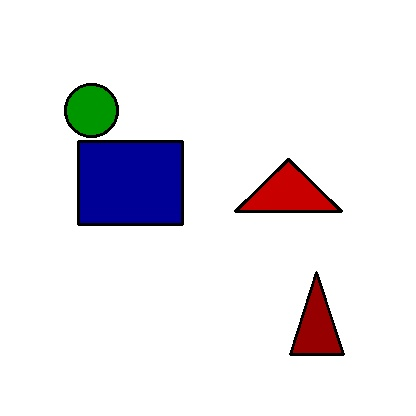circle: (57, 84, 126, 137)
rectangle: (78, 141, 182, 224)
triangle: (235, 159, 341, 211), (290, 272, 343, 354)
